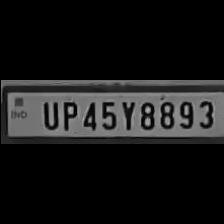3: (195, 97, 215, 129)
4: (78, 98, 98, 130)
5: (97, 97, 117, 130)
8: (136, 98, 156, 130), (156, 98, 176, 130)
9: (175, 97, 193, 128)
P: (57, 98, 77, 130)
U: (37, 98, 59, 130)
Y: (117, 97, 135, 130)
